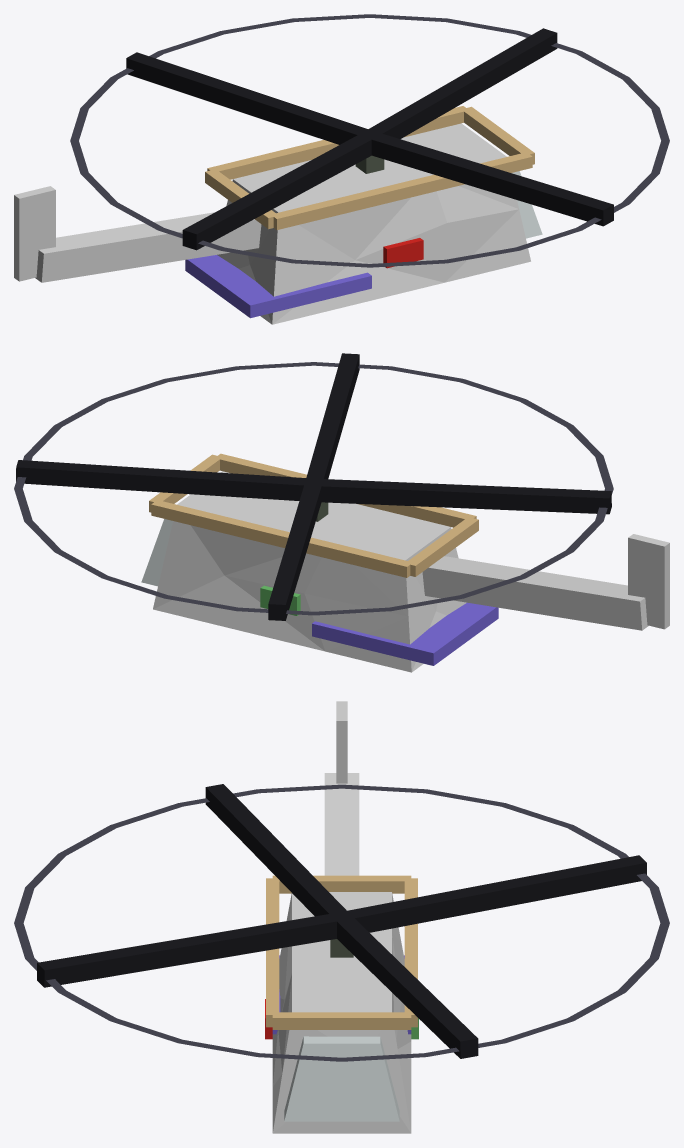
Rendered from chopper.glb.
The picture shows the model from 3 angles, top to bottom: view 1: azimuth 30°, elevation 25°; view 2: azimuth 150°, elevation 25°; view 3: azimuth 270°, elevation 25°; orthographic projection. The views are drawn at different scales.
Visible parts, largest first — view 1: body, blades, neon, blade_ring; view 2: body, blades, neon, blade_ring; view 3: body, blades, blade_ring, neon.
Part boxes in pixels (x1,y1,x2,y2): body: (14, 123, 542, 324); blades: (126, 28, 613, 250); neon: (185, 106, 534, 318); blade_ring: (70, 14, 669, 267); body: (141, 471, 669, 672); blades: (16, 353, 611, 620); neon: (149, 453, 498, 665); blade_ring: (14, 362, 613, 615); body: (272, 701, 411, 1133); blades: (37, 784, 646, 1058); blade_ring: (14, 784, 669, 1061); neon: (265, 875, 418, 1039).
Size of the model in its own units: 20.12 by 5 by 17.05.
